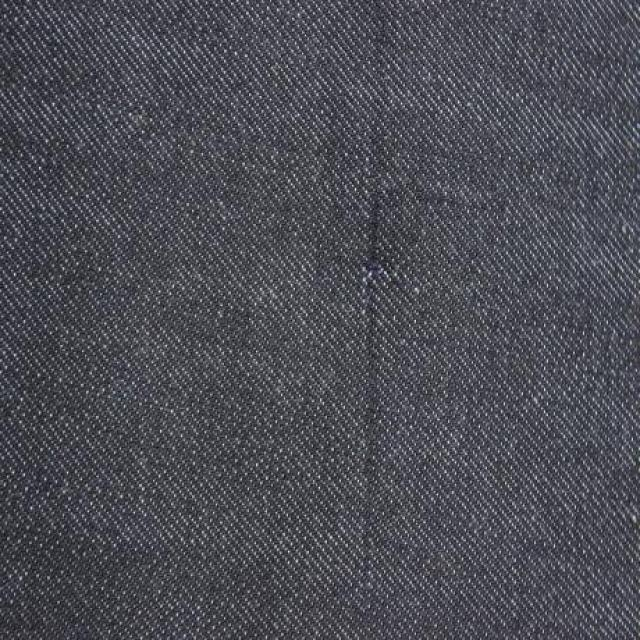Thread_other: (316, 34, 466, 582)
